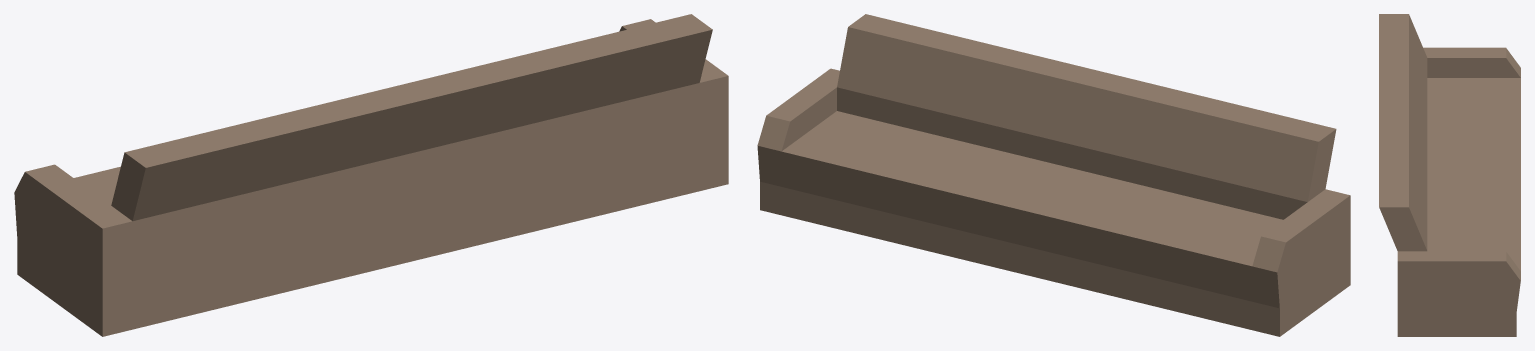
The model's file is couch.fbx.
The picture shows the model from 3 angles, left to right: view 1: azimuth 30°, elevation 25°; view 2: azimuth 150°, elevation 25°; view 3: azimuth 270°, elevation 25°; orthographic projection. The views are drawn at different scales.
Parts seen in each view (by area): view 1: couch; view 2: couch; view 3: couch.
Boxes of the visible parts, box(x1,y1,x2,y2) form: couch: box(14, 14, 728, 336); couch: box(757, 14, 1350, 336); couch: box(1379, 14, 1520, 336).
Size of the model in its own units: 410 by 107 by 115.
